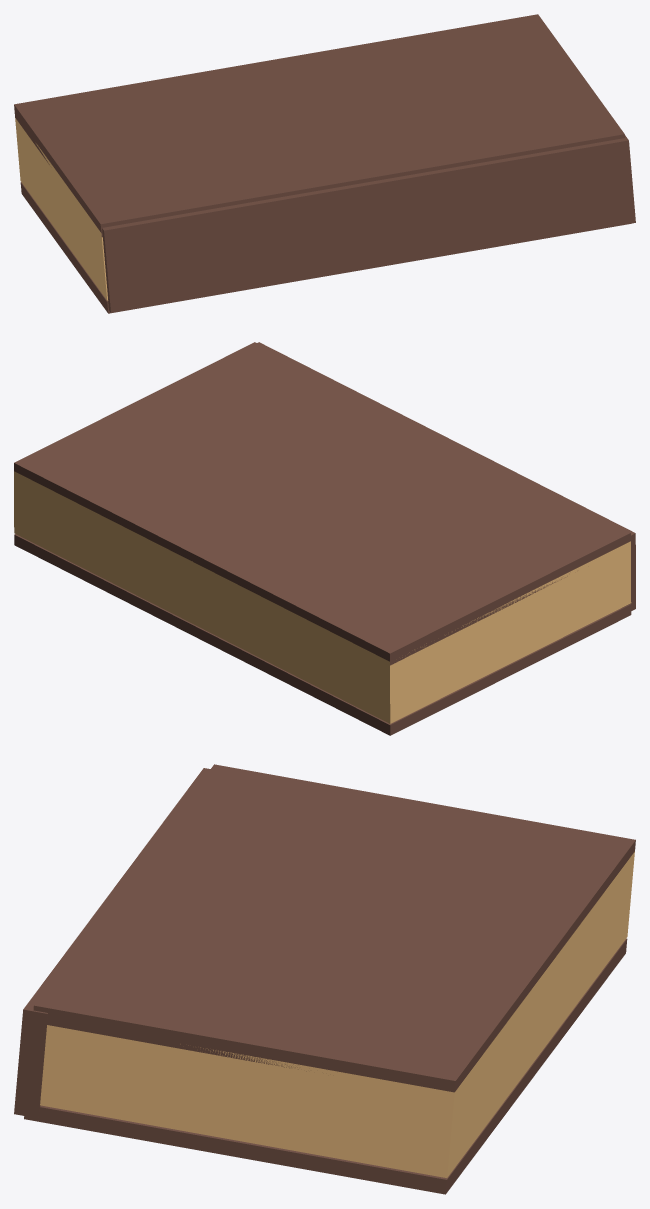
3 renders of one model, top to bottom at view 1: azimuth 30°, elevation 25°; view 2: azimuth 150°, elevation 25°; view 3: azimuth 270°, elevation 25°, orthographic. The views are drawn at different scales.
Visible parts, largest first — view 1: mesh_133167188, mesh_1764734748, mesh_1574381936, mesh_1051164166; view 2: mesh_133167188, mesh_1574381936, mesh_1051164166, mesh_1764734748; view 3: mesh_133167188, mesh_1574381936, mesh_1051164166, mesh_1764734748.
Part boxes in pixels (x1,y1,x2,y2): mesh_133167188: (14,14,624,237); mesh_1764734748: (102,135,635,312); mesh_1574381936: (15,118,108,300); mesh_1051164166: (20,182,630,313); mesh_133167188: (14,342,630,665); mesh_1574381936: (14,471,631,723); mesh_1051164166: (14,534,631,735); mesh_1764734748: (257,342,635,610); mesh_133167188: (33,764,635,1092); mesh_1574381936: (40,851,634,1177); mesh_1051164166: (24,938,627,1194); mesh_1764734748: (14,768,210,1118).
Bounding box in the file's own units: 92.9 × 23.09 × 73.3.
